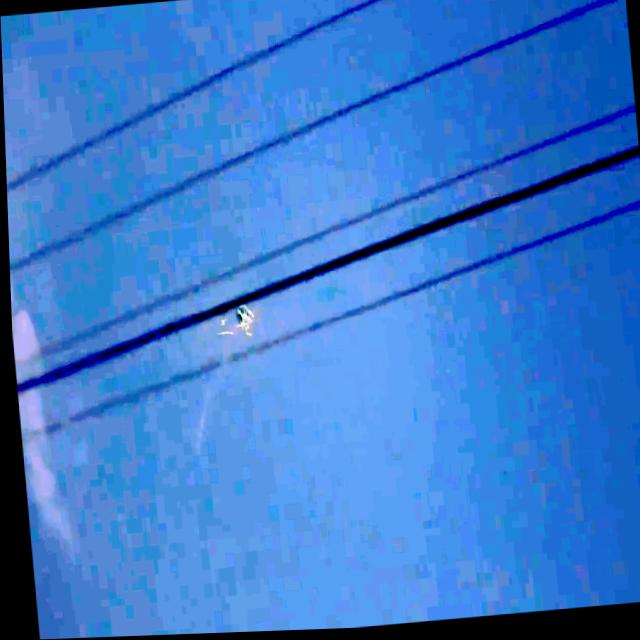obstruction: (218, 306, 251, 337)
wires: (8, 0, 625, 270), (14, 151, 638, 392), (47, 110, 634, 351), (5, 0, 388, 192), (222, 205, 640, 367), (47, 361, 221, 431), (470, 28, 556, 63), (552, 0, 625, 29)
